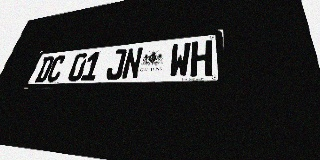0: (67, 53, 89, 82)
1: (80, 51, 102, 81)
C: (45, 55, 67, 82)
D: (34, 56, 55, 83)
H: (190, 40, 212, 77)
J: (105, 49, 127, 80)
N: (121, 47, 143, 79)
W: (168, 42, 191, 78)
